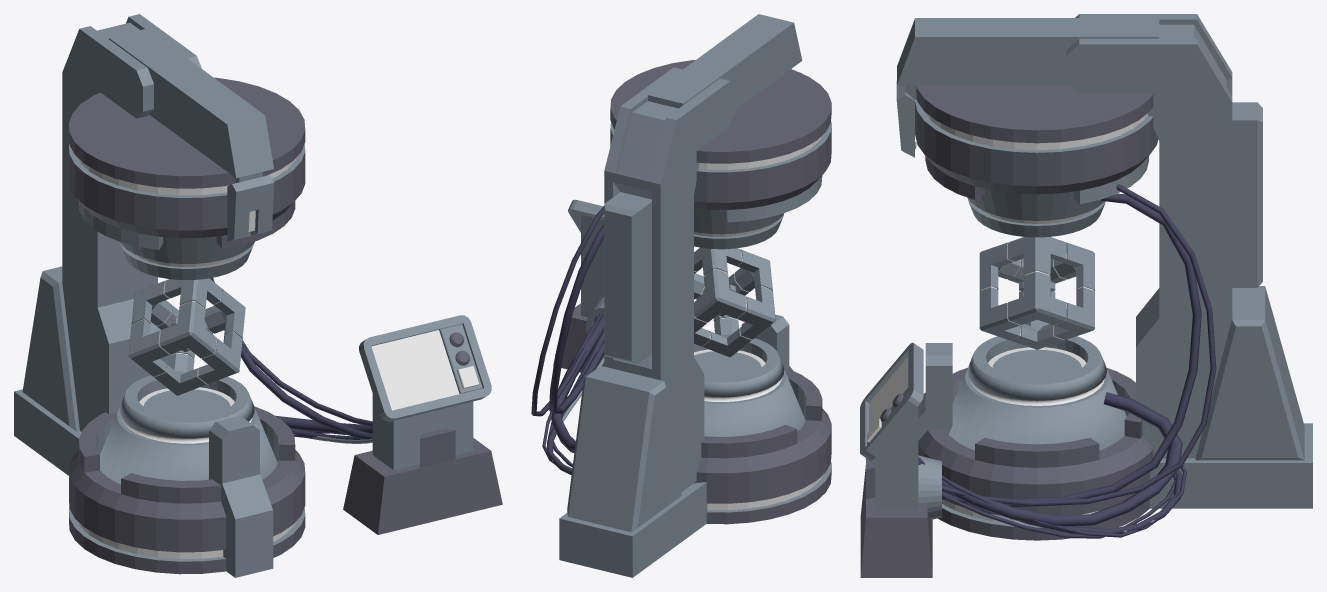
File: Analyser.fbx
3 views of the same model, side by side, from view 1: azimuth 30°, elevation 25°; view 2: azimuth 150°, elevation 25°; view 3: azimuth 270°, elevation 25° (orthographic). The views are drawn at different scales.
Visible parts, largest first — view 1: Cube.159; view 2: Cube.159; view 3: Cube.159.
Part boxes in pixels (x1,y1,x2,y2): Cube.159: [14, 14, 502, 577]; Cube.159: [531, 14, 831, 577]; Cube.159: [860, 14, 1312, 577].
Bounding box in the file's own units: 653 × 840 × 747.
